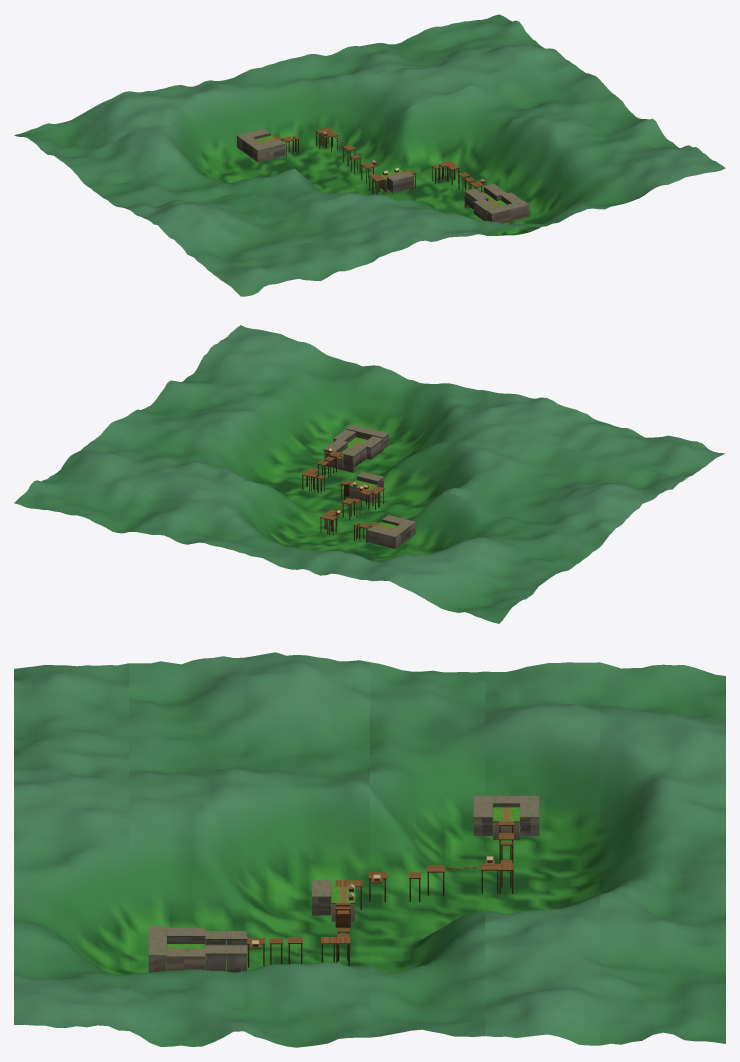
The model's file is treetop_village_terrain.glb.
The picture shows the model from 3 angles, top to bottom: view 1: azimuth 30°, elevation 25°; view 2: azimuth 150°, elevation 25°; view 3: azimuth 270°, elevation 25°; orthographic projection. The views are drawn at different scales.
Visible parts, largest first — view 1: backdrop_5, backdrop_4, backdrop_3, backdrop_2, backdrop_1, backdrop_0, terrain_A, terrain_I, terrain_E, terrain_F, terrain_B; view 2: backdrop_0, backdrop_2, backdrop_5, backdrop_1, backdrop_3, backdrop_4, terrain_I, terrain_A, terrain_B, terrain_E, terrain_F; view 3: backdrop_5, backdrop_2, backdrop_0, backdrop_3, backdrop_4, backdrop_1, terrain_I, terrain_A, terrain_B, terrain_E, terrain_F, terrain_C.
Part boxes in pixels (left/top/right/bottom): backdrop_5: left=14, top=14, right=538, bottom=156; backdrop_4: left=54, top=44, right=575, bottom=188; backdrop_3: left=91, top=65, right=612, bottom=209; backdrop_2: left=128, top=93, right=648, bottom=235; backdrop_1: left=168, top=118, right=688, bottom=265; backdrop_0: left=204, top=145, right=725, bottom=296; terrain_A: left=474, top=192, right=529, bottom=223; terrain_I: left=237, top=128, right=285, bottom=162; terrain_E: left=379, top=168, right=416, bottom=192; terrain_F: left=342, top=144, right=384, bottom=194; terrain_B: left=464, top=183, right=506, bottom=209; backdrop_0: left=204, top=325, right=725, bottom=476; backdrop_2: left=128, top=383, right=651, bottom=531; backdrop_5: left=14, top=475, right=538, bottom=623; backdrop_1: left=167, top=356, right=688, bottom=499; backdrop_3: left=91, top=416, right=612, bottom=564; backdrop_4: left=54, top=442, right=575, bottom=587; terrain_I: left=367, top=515, right=415, bottom=548; terrain_A: left=333, top=424, right=388, bottom=459; terrain_B: left=324, top=439, right=366, bottom=472; terrain_E: left=340, top=471, right=383, bottom=502; terrain_F: left=342, top=486, right=384, bottom=519; backdrop_5: left=600, top=662, right=725, bottom=1045; backdrop_2: left=244, top=652, right=369, bottom=1047; backdrop_0: left=14, top=663, right=129, bottom=1030; backdrop_3: left=370, top=662, right=485, bottom=1037; backdrop_4: left=485, top=662, right=600, bottom=1045; backdrop_1: left=129, top=656, right=244, bottom=1046; terrain_I: left=473, top=795, right=539, bottom=839; terrain_A: left=148, top=926, right=205, bottom=972; terrain_B: left=205, top=931, right=247, bottom=972; terrain_E: left=312, top=880, right=355, bottom=927; terrain_F: left=335, top=865, right=444, bottom=910; terrain_C: left=247, top=937, right=335, bottom=967.
Bounding box in the file's own units: 588 × 66.64 × 476.
